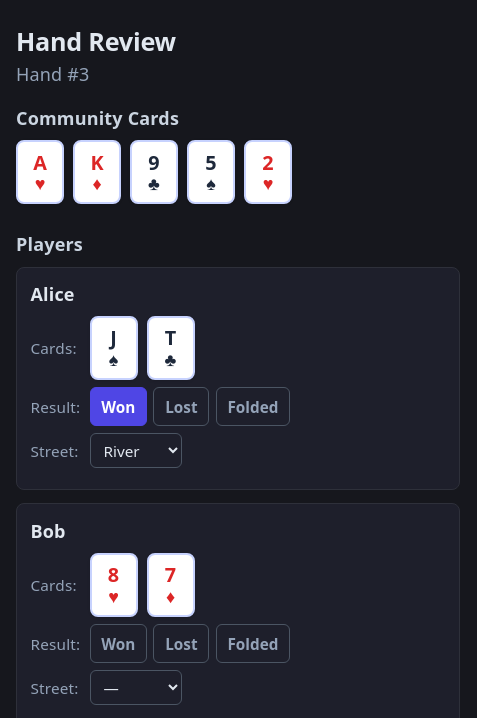
ReviewScreen — Finish Hand gating (AC1) › Finish Hand button becomes enabled after manually setting all results
// Set Bob's result to lost
Click the button with test id "review-player-Bob-result-lost": (181, 644) left=153, top=624, right=209, bottom=663
(page scrolled)
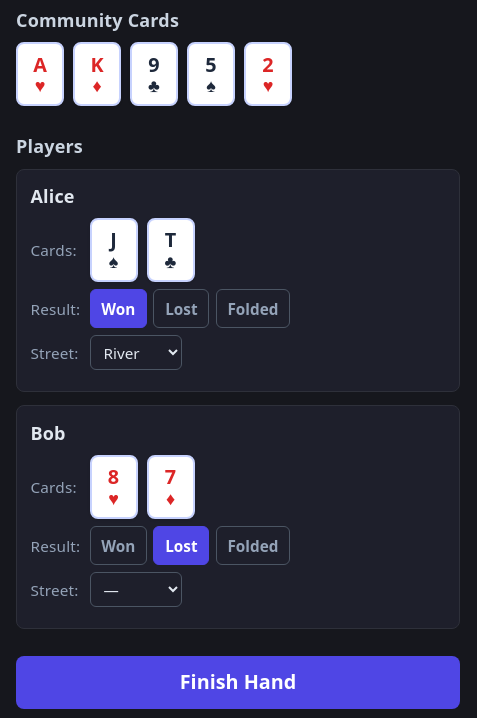
expect the button with test id "review-confirm-btn" is enabled: met, box left=16, top=656, right=460, bottom=709
